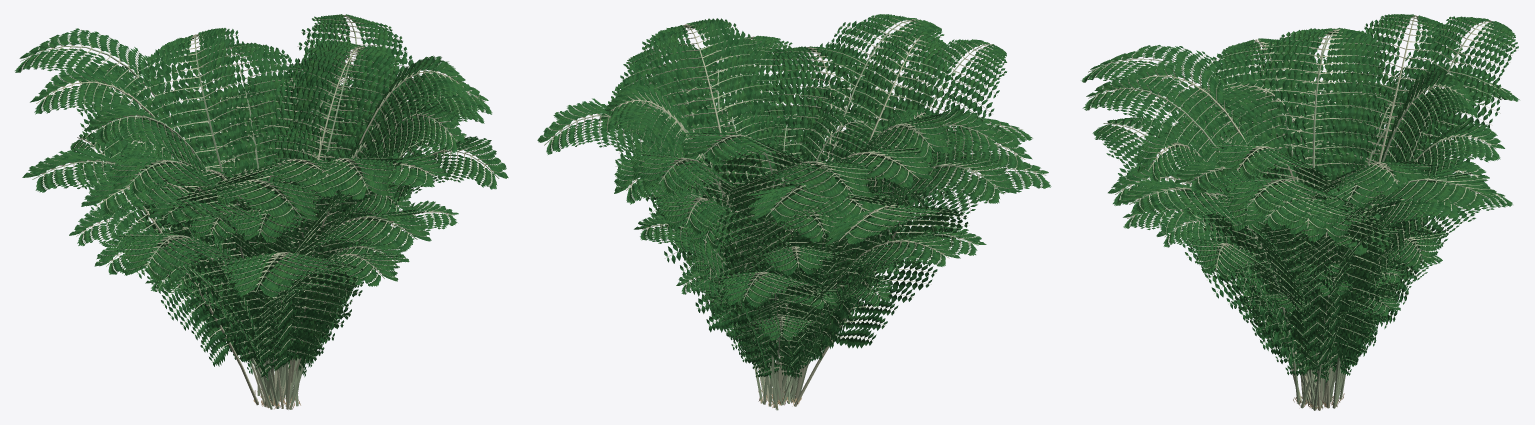
Rendered from fern-dryopteris-filix-mas-forma-original.glb.
3 views of the same model, side by side, from view 1: azimuth 30°, elevation 25°; view 2: azimuth 150°, elevation 25°; view 3: azimuth 270°, elevation 25° (orthographic). The views are drawn at different scales.
Visible parts, largest first — view 1: FERN_MATURE-middle, FERN_MATURE-shadow, FERN_MATURE-stem-light, FERN_MATURE-forest, FERN_MATURE-young, FERN_MATURE-luminous, FERN_MATURE-sage, FERN_NATURAL-middle, FERN_MATURE-warm, FERN_NATURAL-stem-light, FERN_NATURAL-young, FERN_NATURAL-shadow (+10 smaller); view 2: FERN_MATURE-middle, FERN_MATURE-shadow, FERN_MATURE-stem-light, FERN_MATURE-young, FERN_MATURE-forest, FERN_MATURE-luminous, FERN_MATURE-sage, FERN_NATURAL-middle, FERN_MATURE-warm, FERN_NATURAL-shadow, FERN_NATURAL-stem-light, FERN_NATURAL-young (+13 smaller); view 3: FERN_MATURE-middle, FERN_MATURE-shadow, FERN_MATURE-forest, FERN_MATURE-stem-light, FERN_MATURE-young, FERN_MATURE-luminous, FERN_MATURE-sage, FERN_NATURAL-middle, FERN_MATURE-warm, FERN_NATURAL-shadow, FERN_MATURE-stem, FERN_NATURAL-young (+13 smaller).
Part boxes in pixels (x1=…): FERN_MATURE-middle: x1=15, y1=15, x2=505, y2=366; FERN_MATURE-shadow: x1=15, y1=15, x2=503, y2=366; FERN_MATURE-stem-light: x1=22, y1=15, x2=502, y2=409; FERN_MATURE-forest: x1=22, y1=14, x2=506, y2=362; FERN_MATURE-young: x1=15, y1=14, x2=508, y2=359; FERN_MATURE-luminous: x1=21, y1=14, x2=505, y2=362; FERN_MATURE-sage: x1=23, y1=17, x2=501, y2=365; FERN_NATURAL-middle: x1=69, y1=109, x2=462, y2=375; FERN_MATURE-warm: x1=24, y1=15, x2=507, y2=360; FERN_NATURAL-stem-light: x1=75, y1=102, x2=461, y2=408; FERN_NATURAL-young: x1=69, y1=98, x2=466, y2=358; FERN_NATURAL-shadow: x1=75, y1=109, x2=456, y2=376; FERN_MATURE-middle: x1=537, y1=15, x2=1049, y2=352; FERN_MATURE-shadow: x1=554, y1=15, x2=1042, y2=359; FERN_MATURE-stem-light: x1=543, y1=17, x2=1041, y2=406; FERN_MATURE-young: x1=538, y1=14, x2=1048, y2=348; FERN_MATURE-forest: x1=543, y1=14, x2=1051, y2=353; FERN_MATURE-luminous: x1=538, y1=14, x2=1049, y2=355; FERN_MATURE-sage: x1=543, y1=14, x2=1050, y2=348; FERN_NATURAL-middle: x1=601, y1=80, x2=982, y2=365; FERN_MATURE-warm: x1=544, y1=20, x2=1032, y2=344; FERN_NATURAL-shadow: x1=601, y1=87, x2=983, y2=369; FERN_NATURAL-stem-light: x1=624, y1=79, x2=979, y2=399; FERN_NATURAL-young: x1=599, y1=75, x2=984, y2=359; FERN_MATURE-middle: x1=1083, y1=14, x2=1518, y2=363; FERN_MATURE-shadow: x1=1082, y1=15, x2=1511, y2=367; FERN_MATURE-forest: x1=1086, y1=14, x2=1519, y2=363; FERN_MATURE-stem-light: x1=1087, y1=15, x2=1516, y2=410; FERN_MATURE-young: x1=1081, y1=14, x2=1516, y2=362; FERN_MATURE-luminous: x1=1084, y1=14, x2=1516, y2=359; FERN_MATURE-sage: x1=1088, y1=14, x2=1517, y2=360; FERN_NATURAL-middle: x1=1123, y1=89, x2=1511, y2=366; FERN_MATURE-warm: x1=1084, y1=16, x2=1513, y2=355; FERN_NATURAL-shadow: x1=1130, y1=88, x2=1512, y2=368; FERN_MATURE-stem: x1=1088, y1=21, x2=1511, y2=410; FERN_NATURAL-young: x1=1123, y1=91, x2=1512, y2=367.
Size of the model in its own units: 1.18 by 0.8771 by 1.11.
10 materials, 7 textured.
